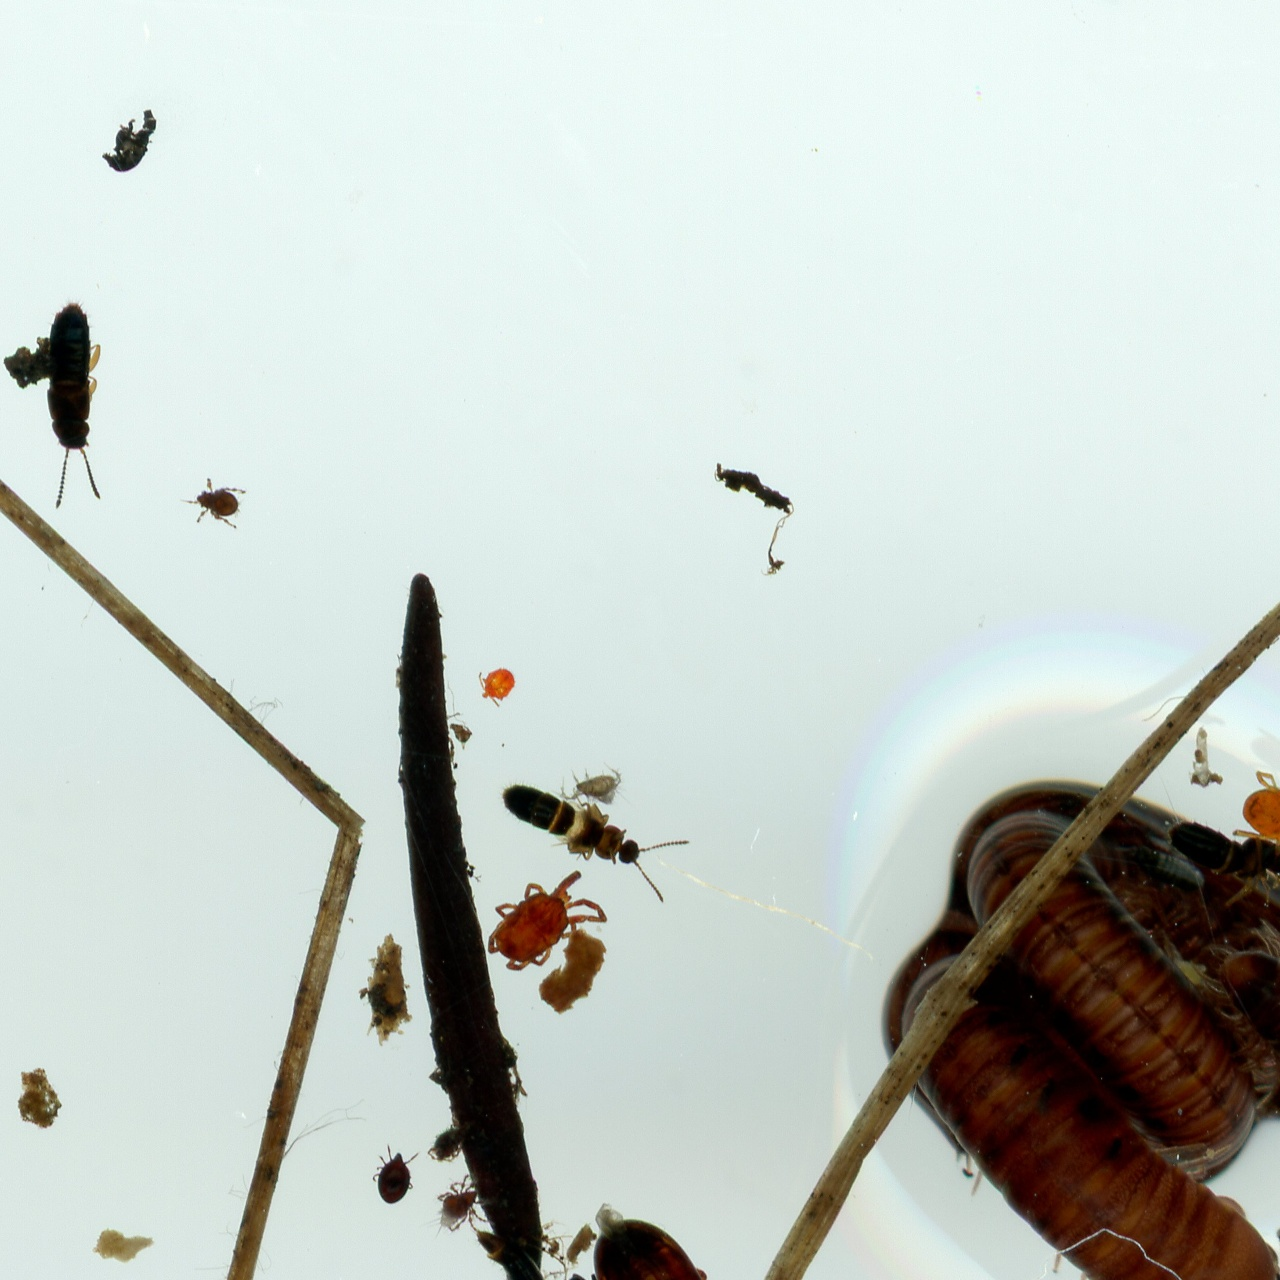arthropod: (883, 777, 1280, 1280), (503, 782, 690, 903), (488, 869, 610, 971), (47, 293, 102, 508), (594, 1203, 725, 1280), (1171, 821, 1280, 905), (474, 1231, 591, 1280), (1231, 770, 1280, 850), (432, 1175, 491, 1235), (183, 478, 247, 530), (372, 1145, 420, 1205), (562, 762, 624, 805), (478, 666, 517, 708), (429, 1123, 468, 1160), (558, 1272, 609, 1280)
